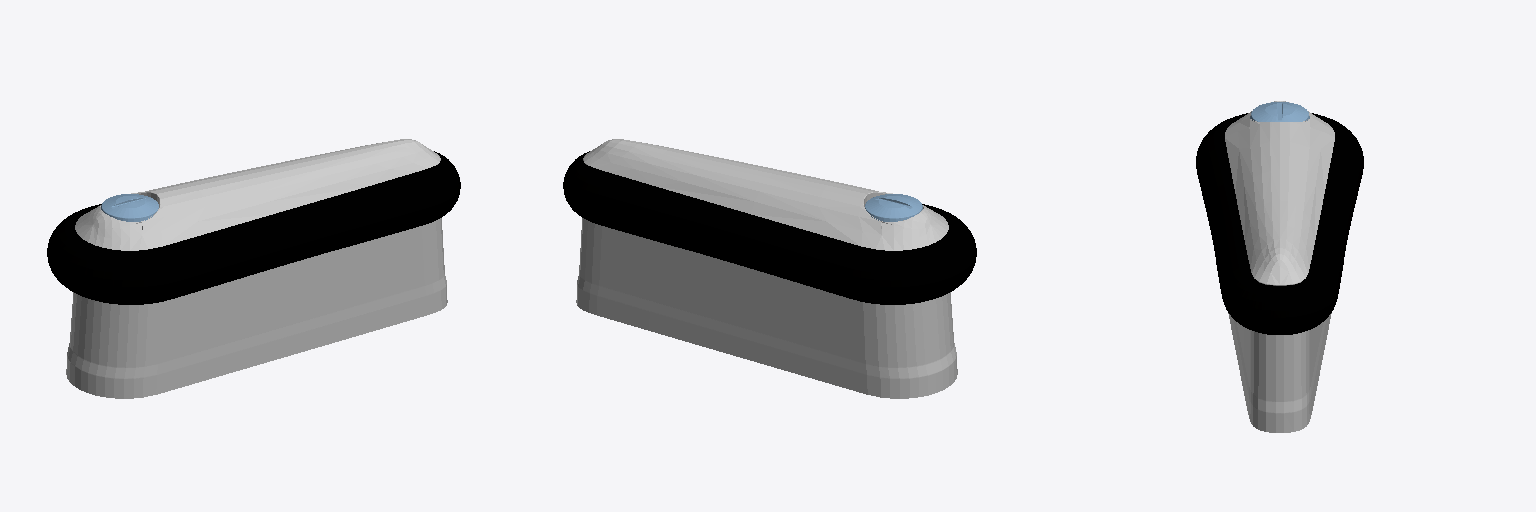
The model's file is Flippers.obj.
3 views of the same model, side by side, from view 1: azimuth 30°, elevation 25°; view 2: azimuth 150°, elevation 25°; view 3: azimuth 270°, elevation 25° (orthographic).
Parts seen in each view (by area): view 1: Mini_Flipper; view 2: Mini_Flipper; view 3: Mini_Flipper.
Part boxes in pixels (x1,y1,x2,y2): Mini_Flipper: (47,139,460,398); Mini_Flipper: (563,139,976,398); Mini_Flipper: (1196,101,1363,432).
Bounding box in the file's own units: 0.0624 × 0.026 × 0.023.